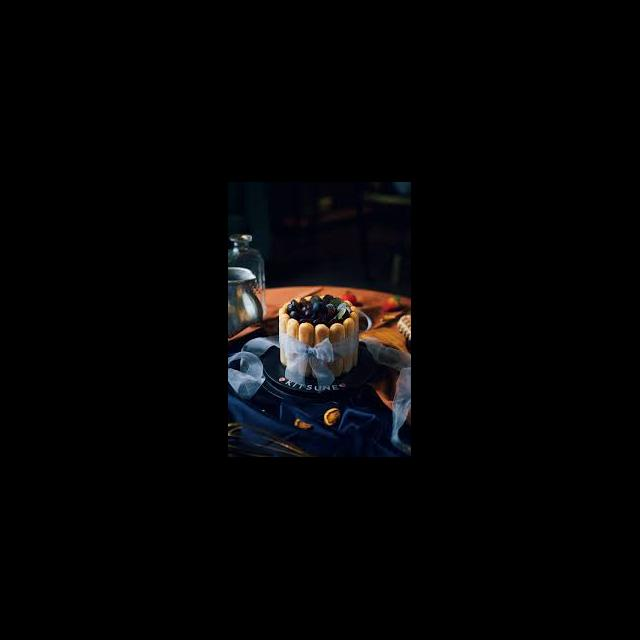grape: (286, 294, 352, 326)
